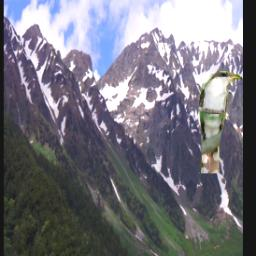Cuckoo: (197, 69, 242, 173)
